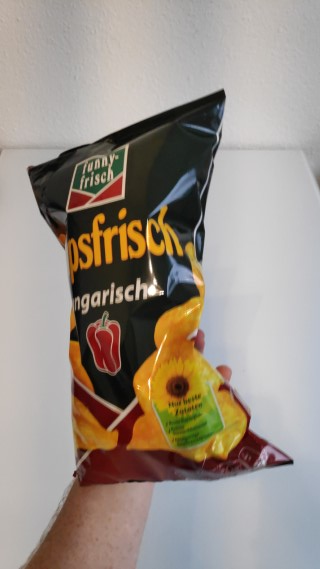chipsfrisch: (24, 87, 295, 488)
